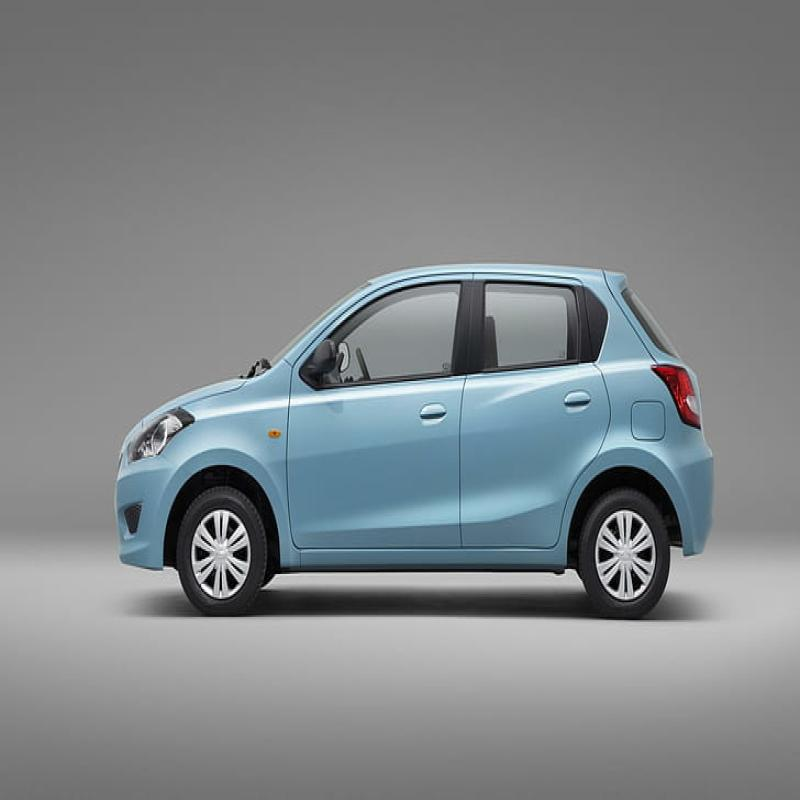car: (57, 229, 797, 603)
